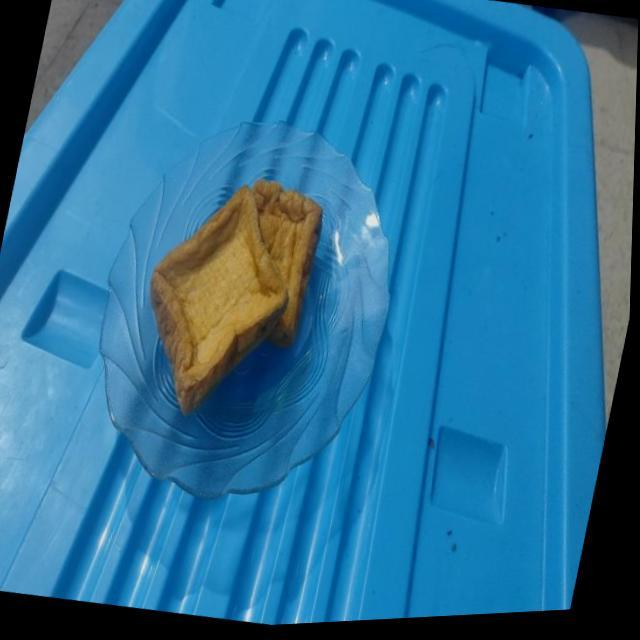tahu_goreng: (150, 179, 320, 414), (250, 179, 322, 347)
